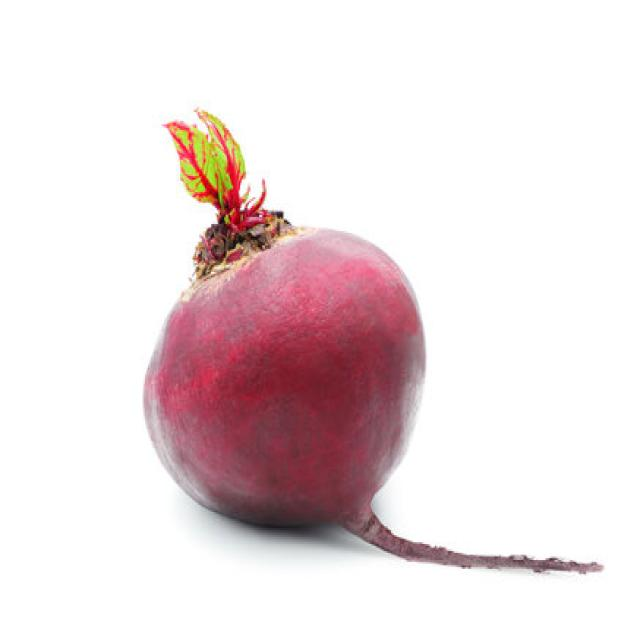Beetroot: (141, 105, 604, 574)
Spinach: (160, 105, 286, 279)
